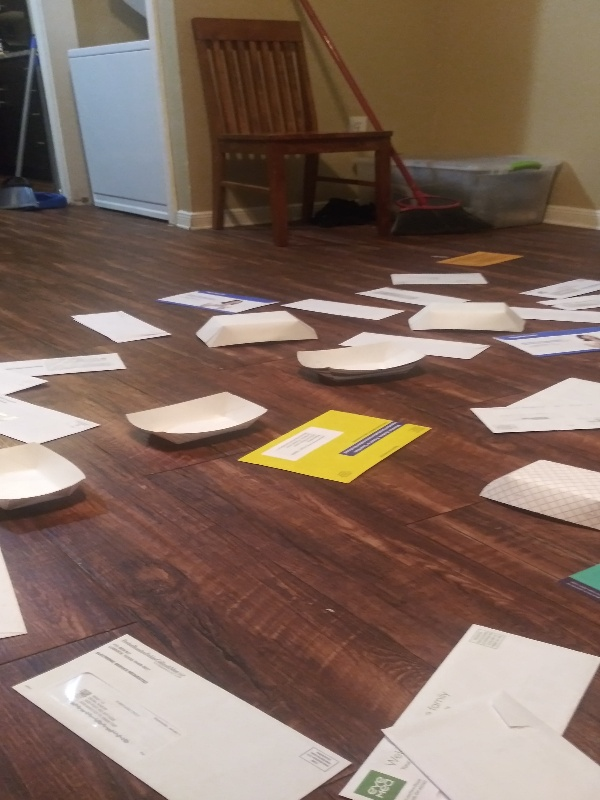plate: (476, 456, 600, 537), (121, 388, 275, 448), (294, 335, 434, 386), (1, 439, 87, 521), (193, 308, 326, 354), (404, 302, 530, 335)
